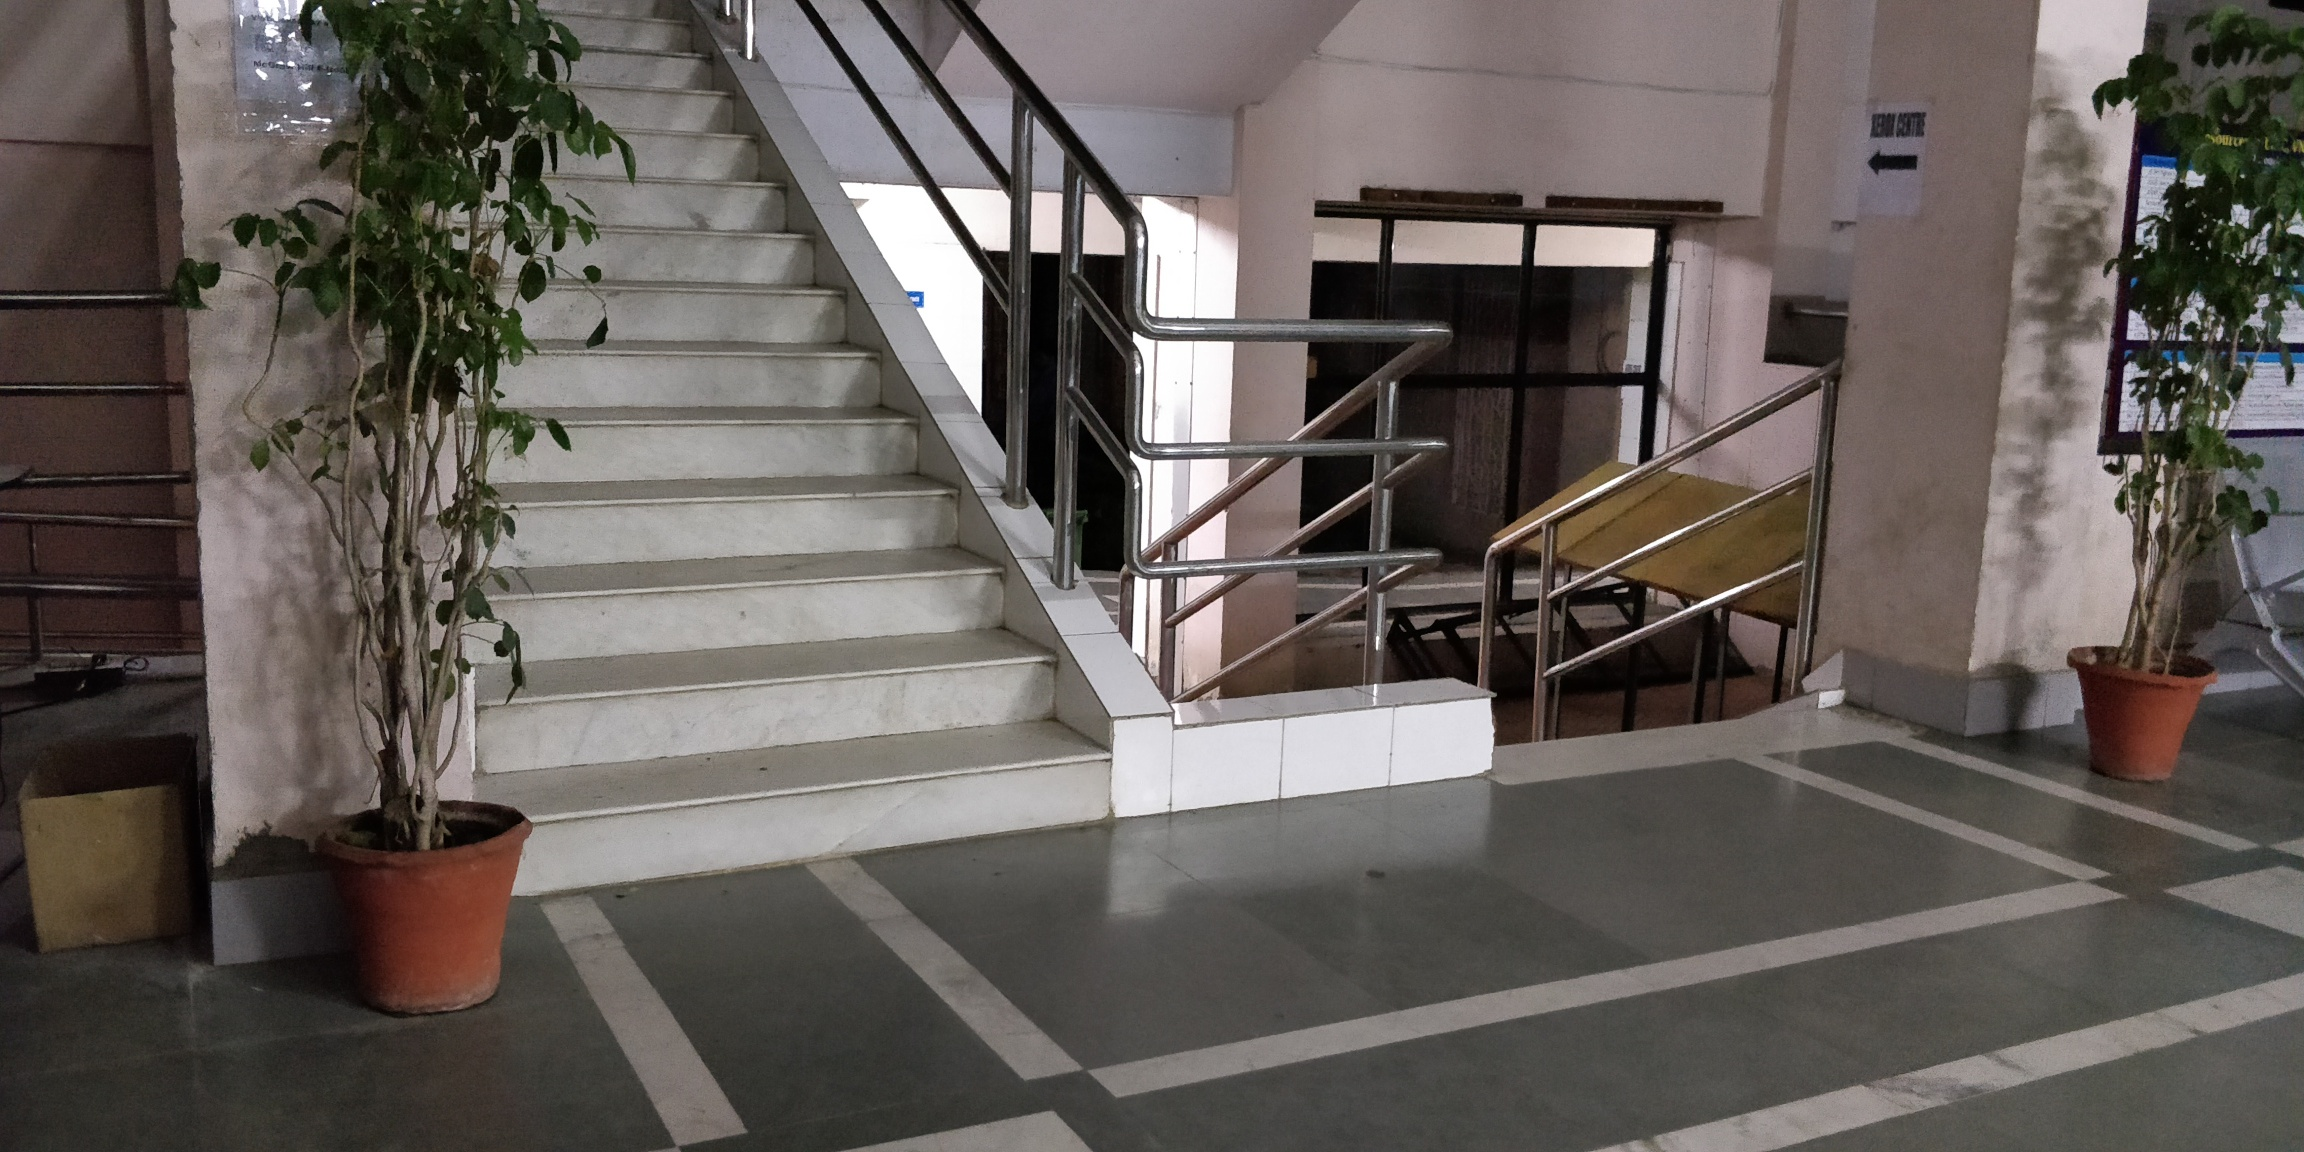stairs_up: (480, 18, 1104, 888)
